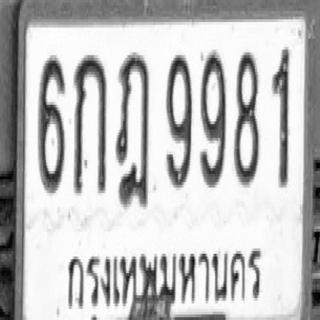A01: (73, 52, 106, 193)
A14: (115, 50, 149, 207)
N01: (271, 45, 289, 186)
N06: (38, 54, 65, 192)
N08: (233, 50, 259, 185)
N09: (199, 51, 226, 186), (166, 52, 192, 188)
P04: (62, 234, 268, 313)
